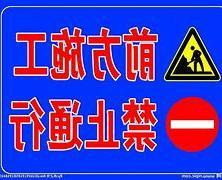sign: (1, 3, 222, 173)
